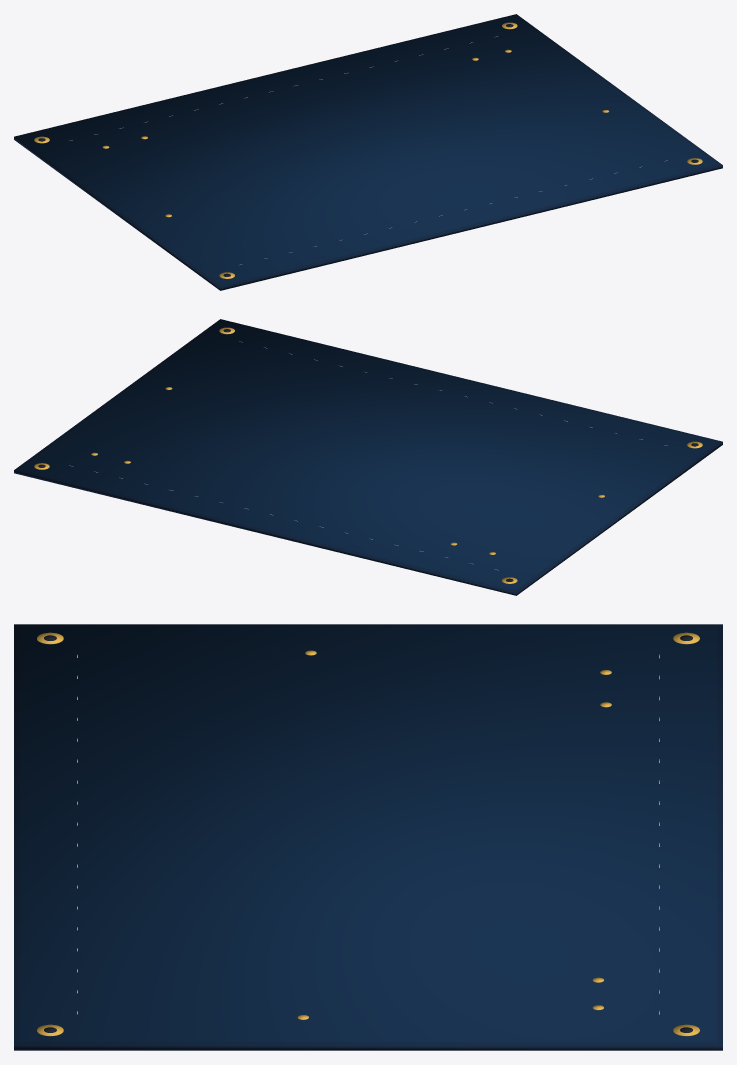
Rendered from 095_L104_PCB_Substrate_260x185mm.fbx.
3 views of the same model, one above another, from view 1: azimuth 30°, elevation 25°; view 2: azimuth 150°, elevation 25°; view 3: azimuth 270°, elevation 25° (orthographic). The views are drawn at different scales.
Visible parts, largest first — view 1: PCB_Substrate_260x185mm_mask, PCB_Substrate_260x185mm_pcb; view 2: PCB_Substrate_260x185mm_mask, PCB_Substrate_260x185mm_pcb; view 3: PCB_Substrate_260x185mm_mask, PCB_Substrate_260x185mm_pcb, PCB_Substrate_260x185mm_gold.
Boxes of the visible parts, x1,y1,x2,y2 form: PCB_Substrate_260x185mm_mask: [19, 16, 717, 285]; PCB_Substrate_260x185mm_pcb: [14, 14, 722, 290]; PCB_Substrate_260x185mm_mask: [19, 321, 717, 590]; PCB_Substrate_260x185mm_pcb: [14, 319, 722, 595]; PCB_Substrate_260x185mm_mask: [19, 626, 717, 1042]; PCB_Substrate_260x185mm_pcb: [14, 624, 722, 1050]; PCB_Substrate_260x185mm_gold: [37, 632, 699, 1036].
Size of the model in its own units: 0.26 by 0.00176 by 0.185.
